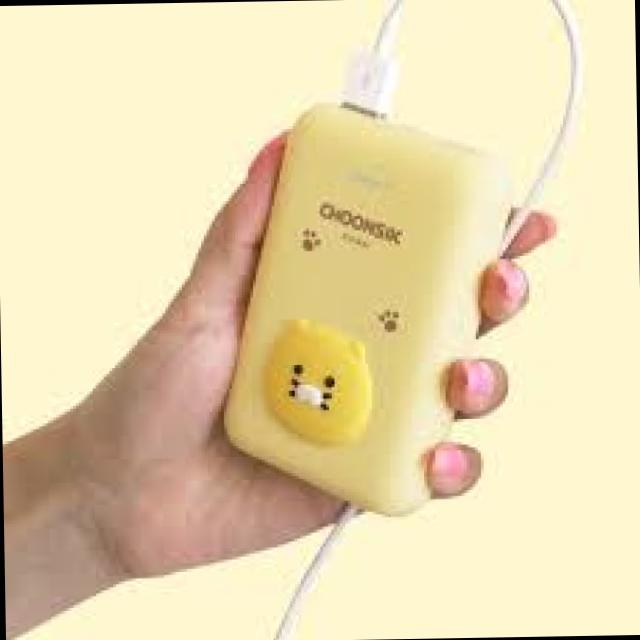power_bank: (211, 99, 518, 518)
